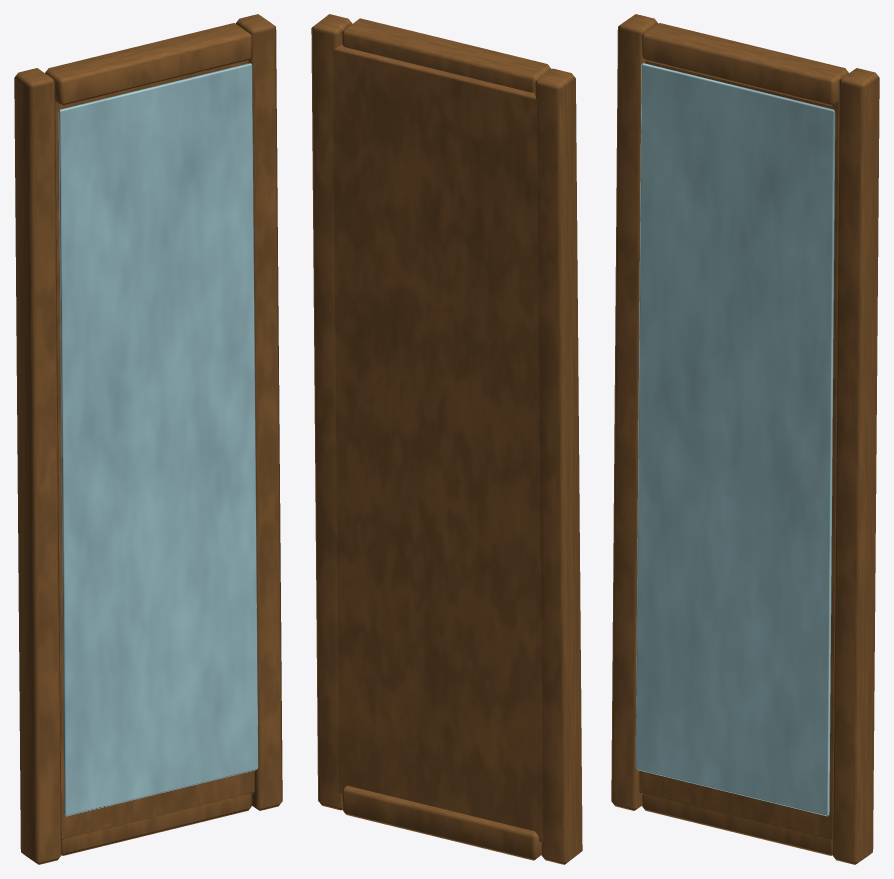
Rendered from Furn_DecorMirror.fbx.
The picture shows the model from 3 angles, left to right: view 1: azimuth 30°, elevation 25°; view 2: azimuth 150°, elevation 25°; view 3: azimuth 330°, elevation 25°; orthographic projection.
Visible parts, largest first — view 1: Furn_DecorMirror_Mesh; view 2: Furn_DecorMirror_Mesh; view 3: Furn_DecorMirror_Mesh.
Part boxes in pixels (<box>): Furn_DecorMirror_Mesh: <box>14,14,282,864</box>; Furn_DecorMirror_Mesh: <box>311,14,582,864</box>; Furn_DecorMirror_Mesh: <box>611,14,879,864</box>.
Bounding box in the file's own units: 0.55 × 1.65 × 0.1.
2 materials, 2 textured.
